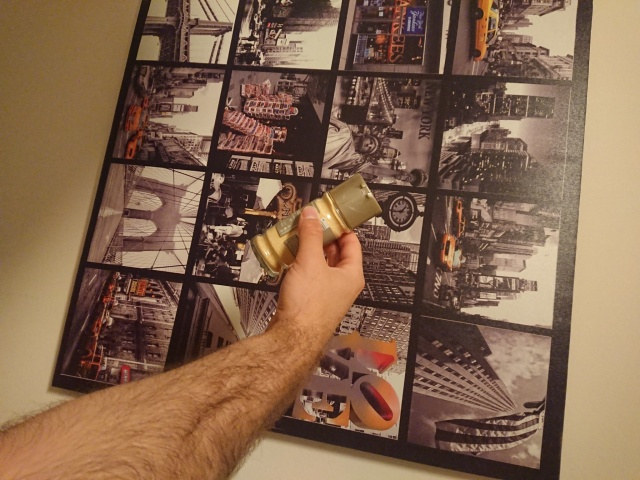Kotanyi Garlic Granules 70g: (248, 172, 384, 279)
